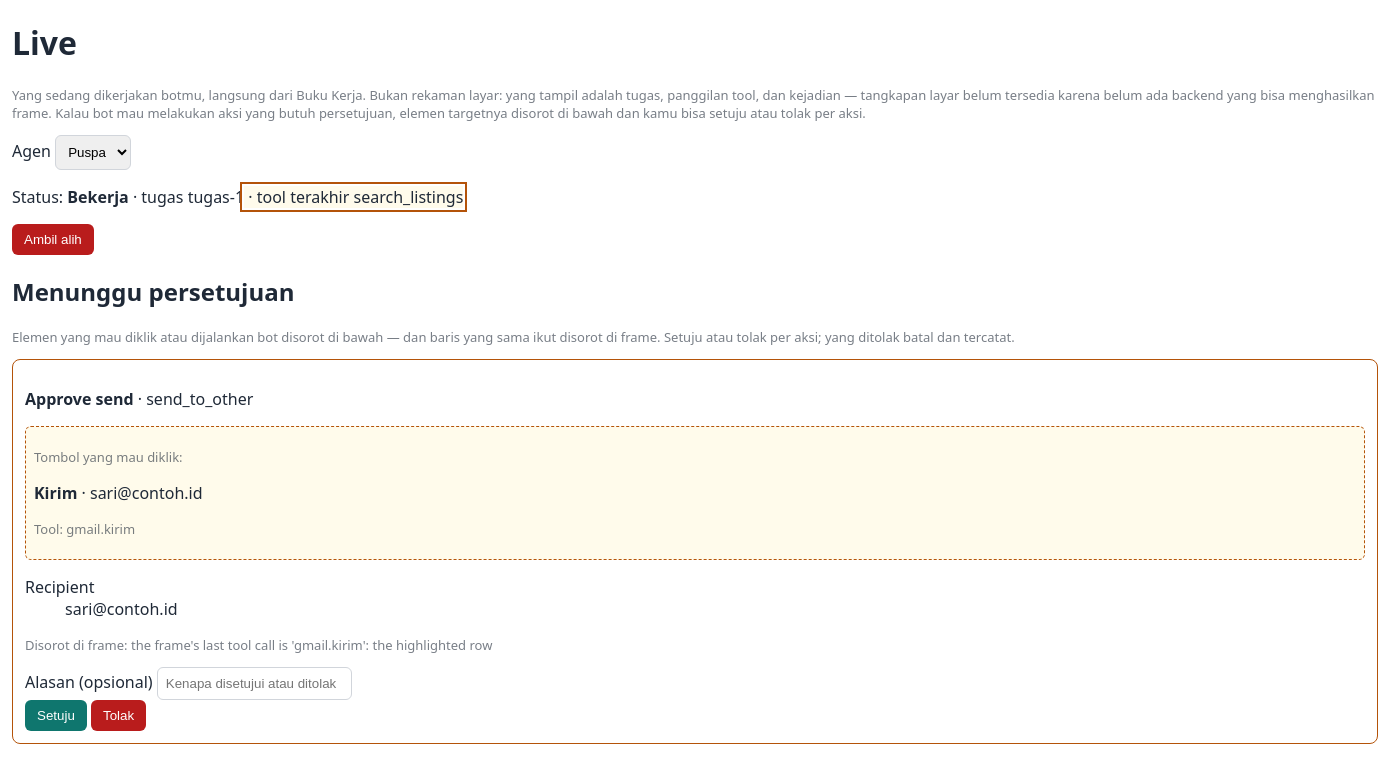
Test case: LiveViewScreen (P-09) › rejects one overlay with the typed reason (P-11)
The width and height of the screenshot is (1390, 764).
Expected: the button "Tolak" is shown, [91, 700, 146, 731]
Step 1. Type "jangan dulu" into the field with placeholder "Kenapa disetujui atau ditolak" → {"x": 254, "y": 683}, box [157, 667, 352, 700]
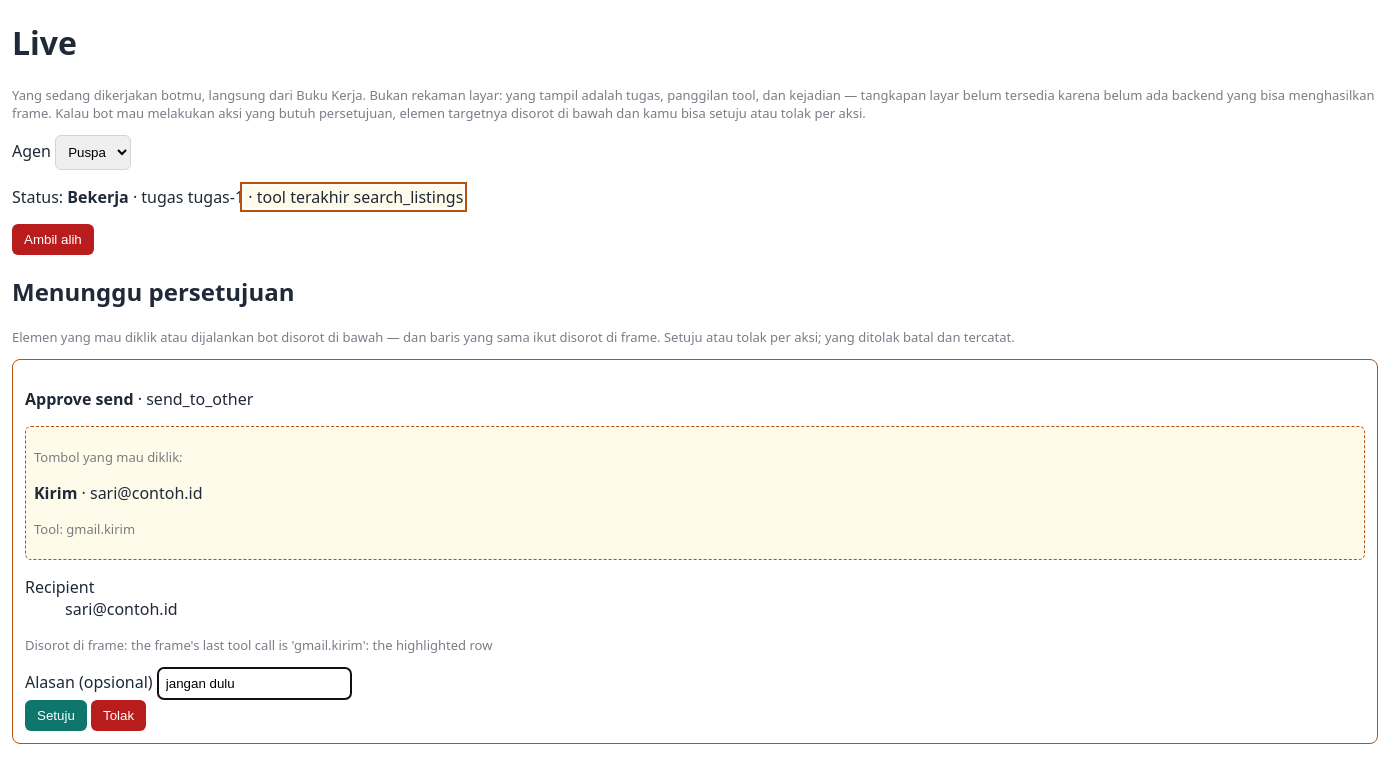
Step 2. Click the button "Tolak" → {"x": 119, "y": 715}, box [91, 700, 146, 731]
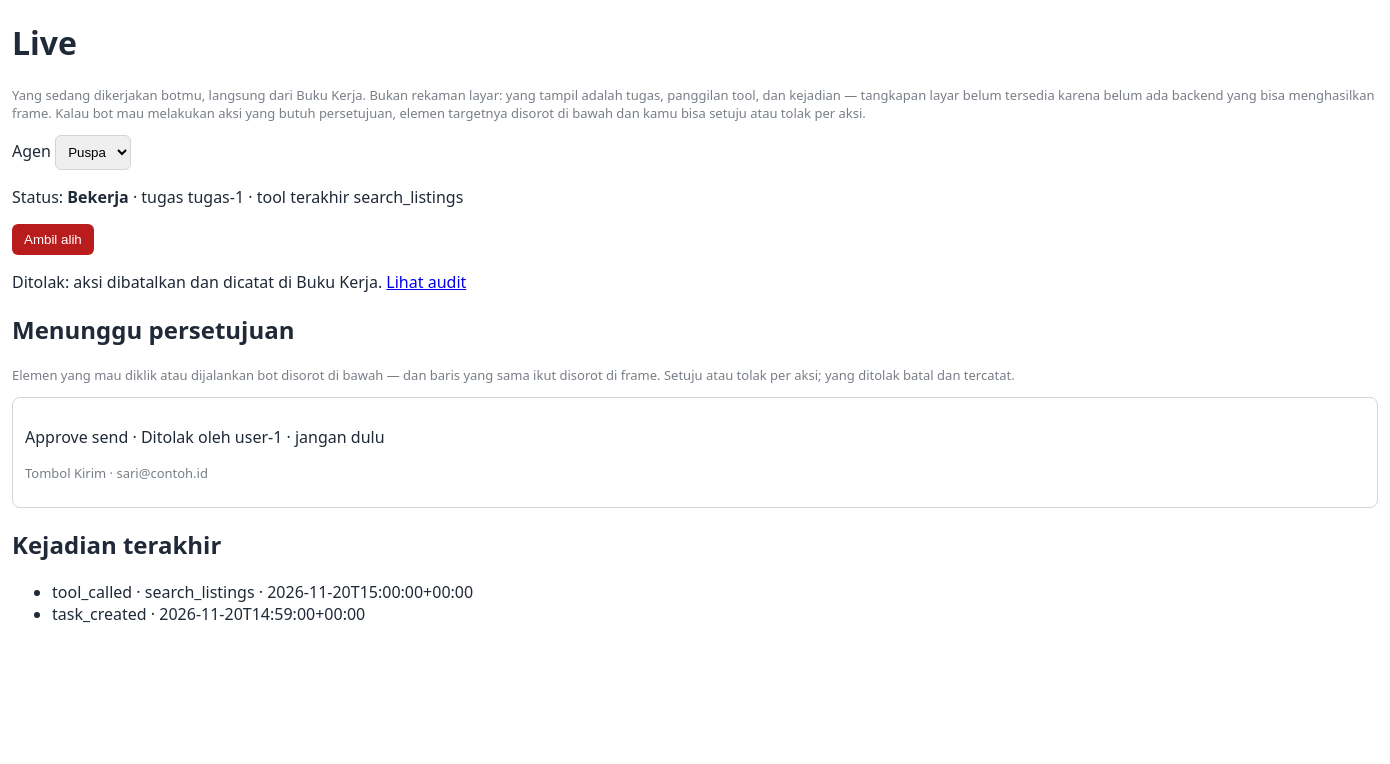
Expected: the text "Ditolak: aksi dibatalkan" is shown, [12, 271, 382, 293]
